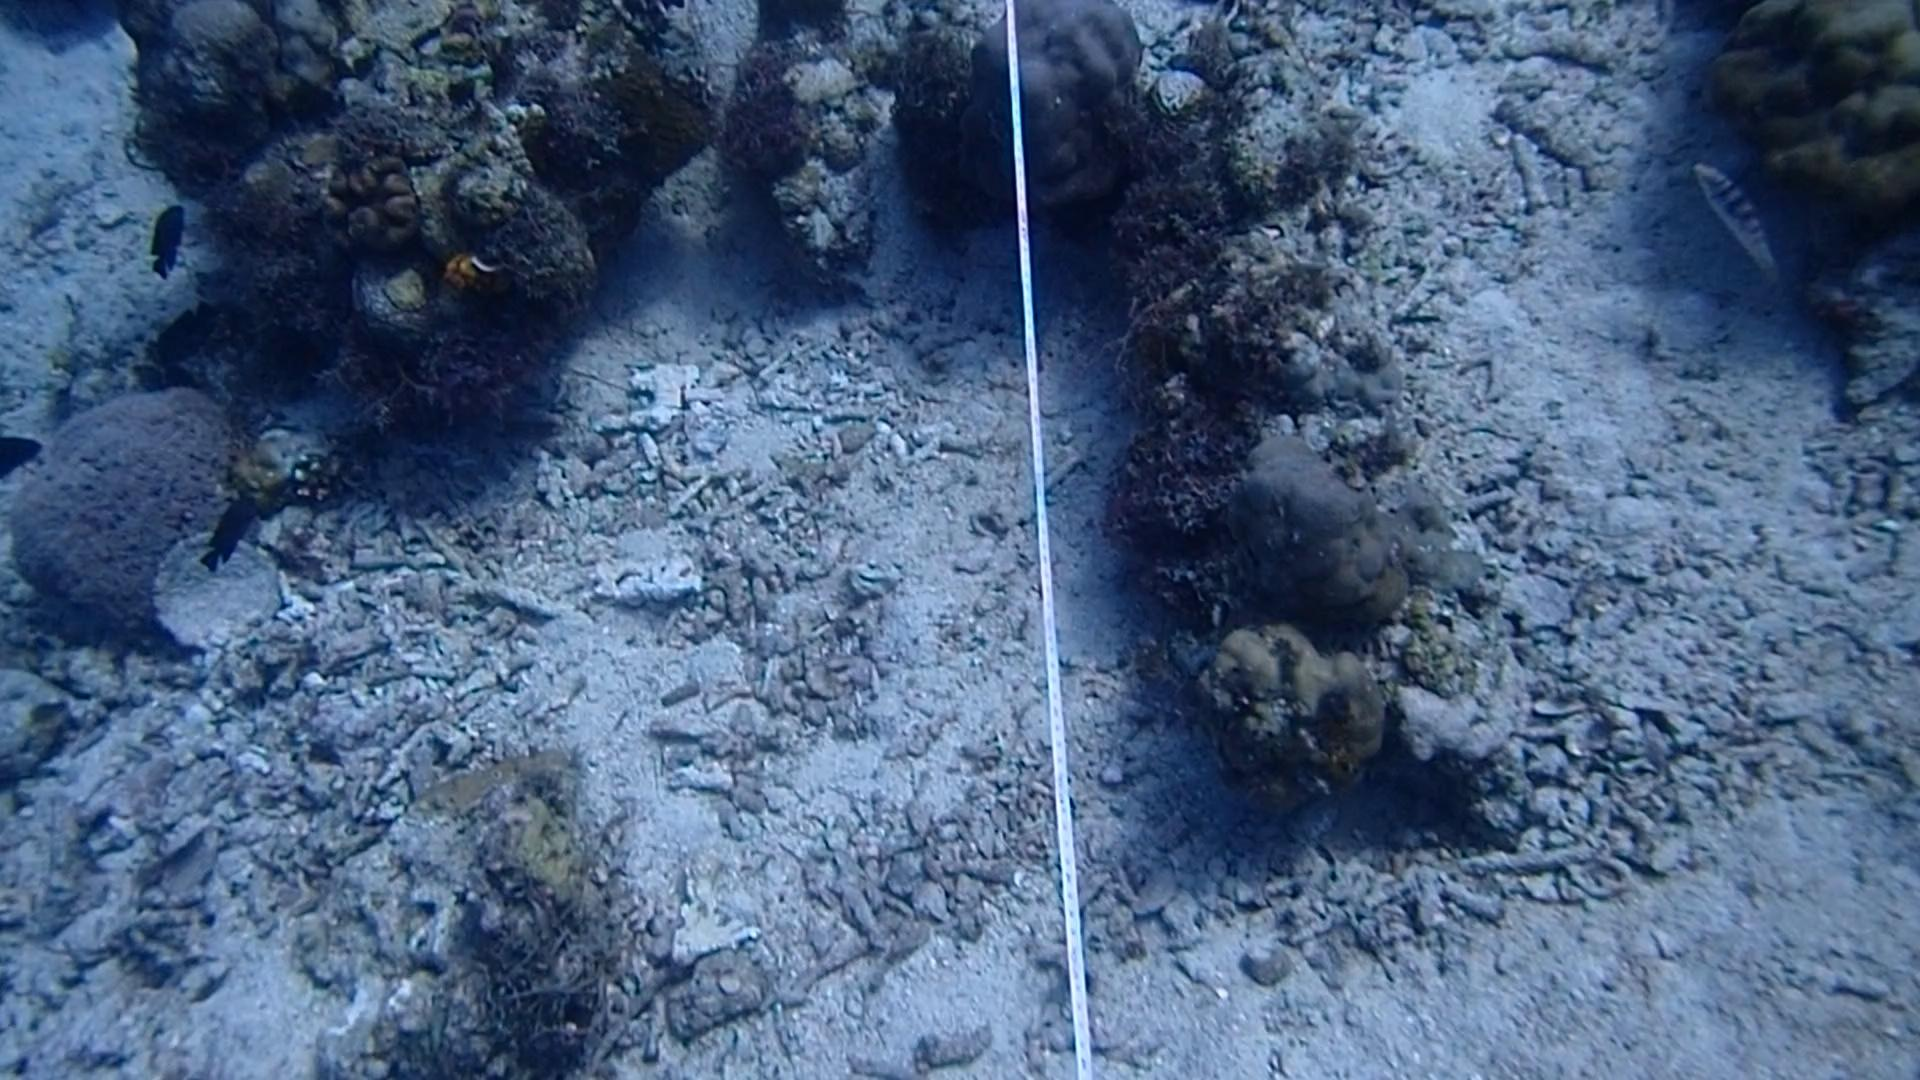Dark Fish: (142, 293, 225, 382), (196, 485, 266, 583), (133, 191, 200, 289)
Light Fish w Back Stripes: (1675, 157, 1796, 280)
